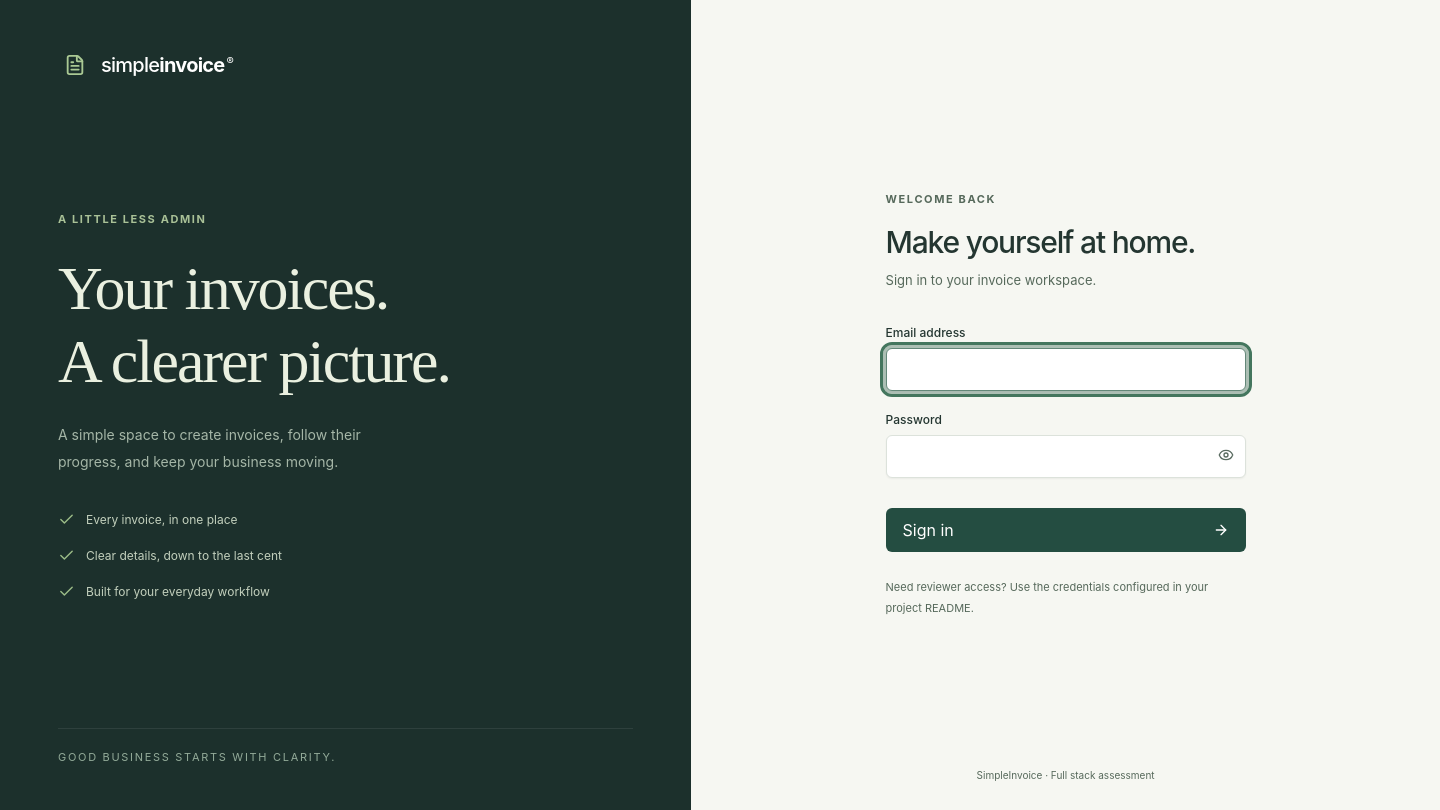
Test: Authentication and protected routes › shows rejected credentials and supports password visibility
The image size is (1440, 810).
Type "reviewer@example.com" into the field labelled "Email address" at [1066, 370], box x1=886 y1=348 x2=1246 y2=391
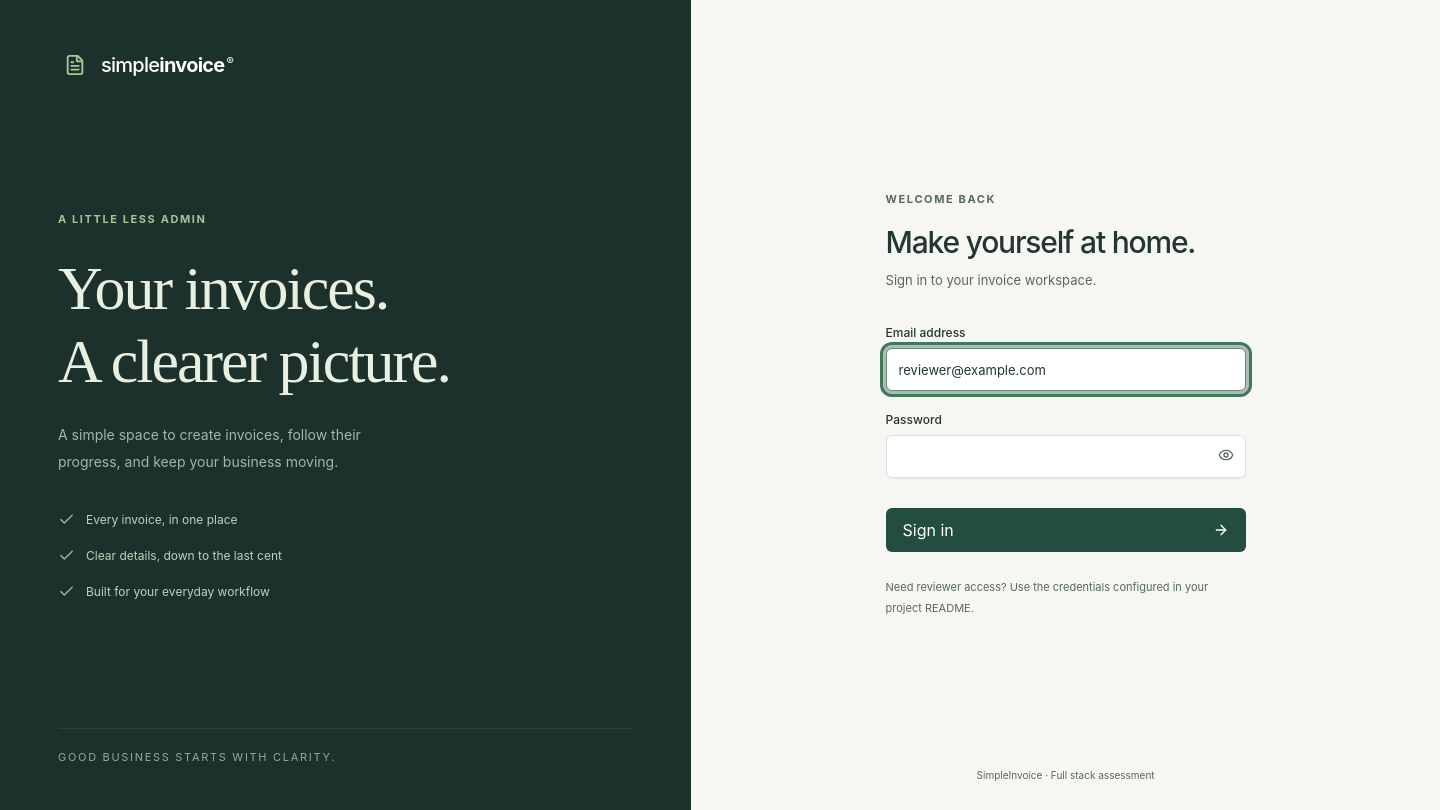
Type "wrong" into the password field labelled "Password" at [1066, 457], box x1=886 y1=435 x2=1246 y2=478
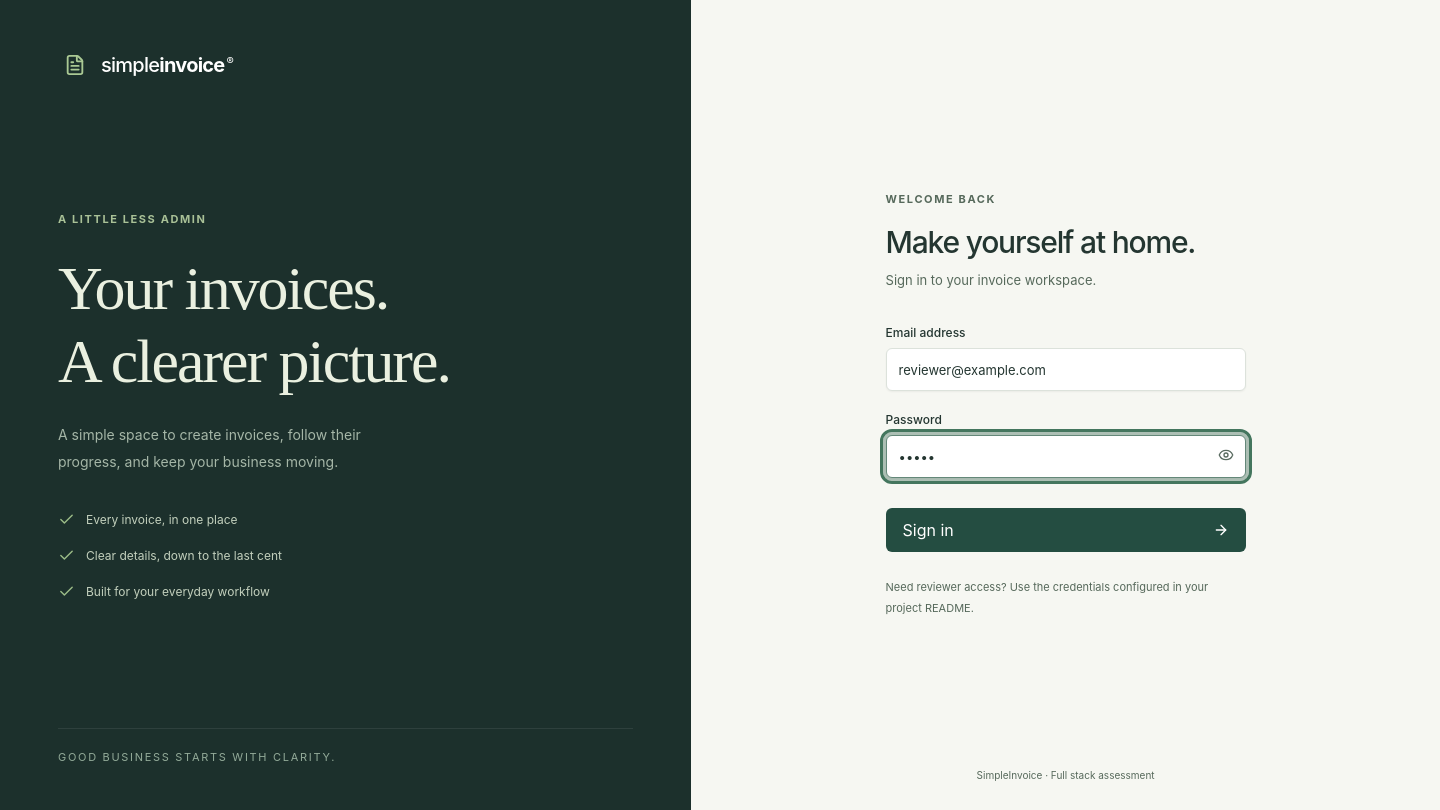
Click the button named "Show password" at [1226, 455], box x1=1206 y1=432 x2=1246 y2=478
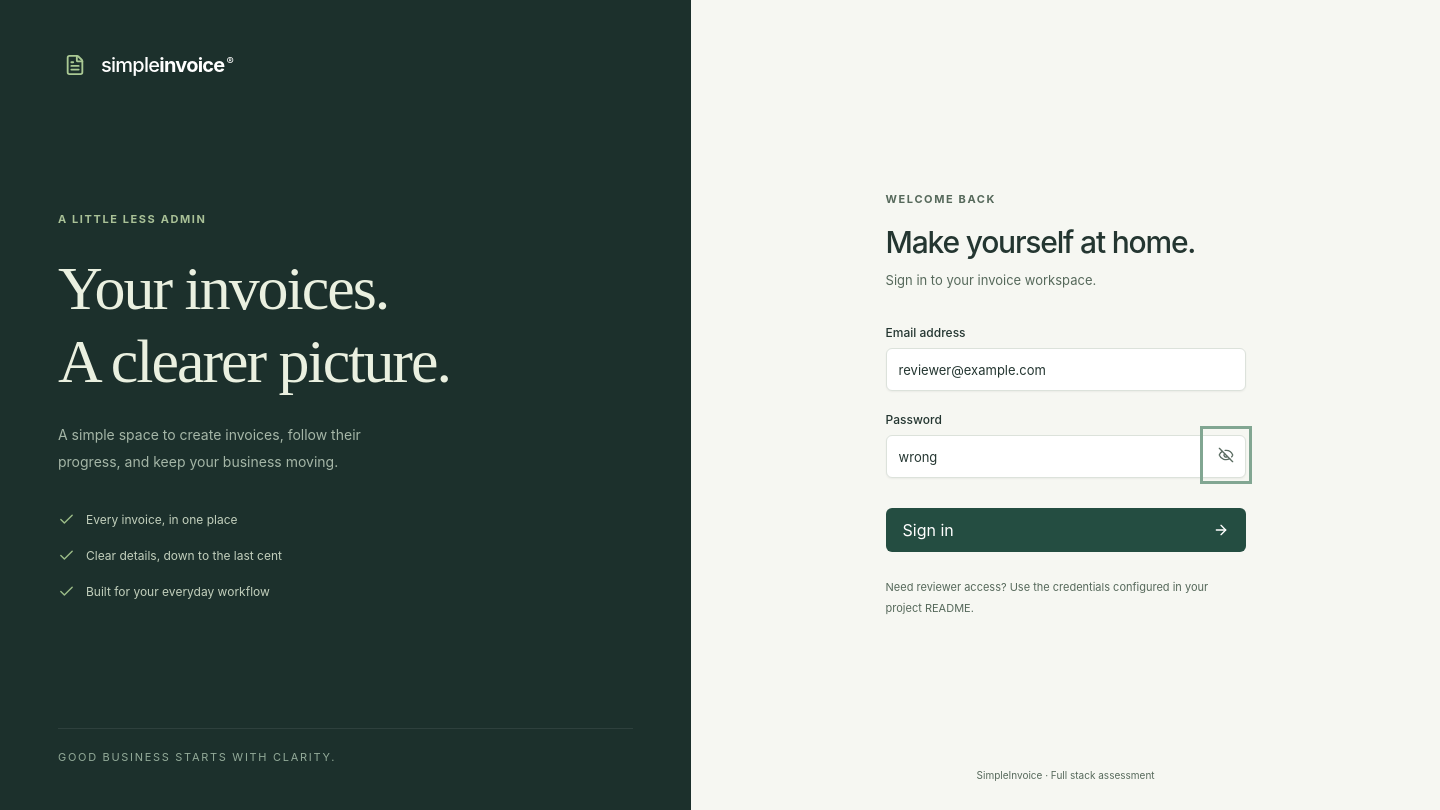
Expected: the field labelled "Password" shows its text, x1=886 y1=435 x2=1246 y2=478
Click the button "Sign in" at [928, 530], box x1=886 y1=508 x2=1246 y2=552
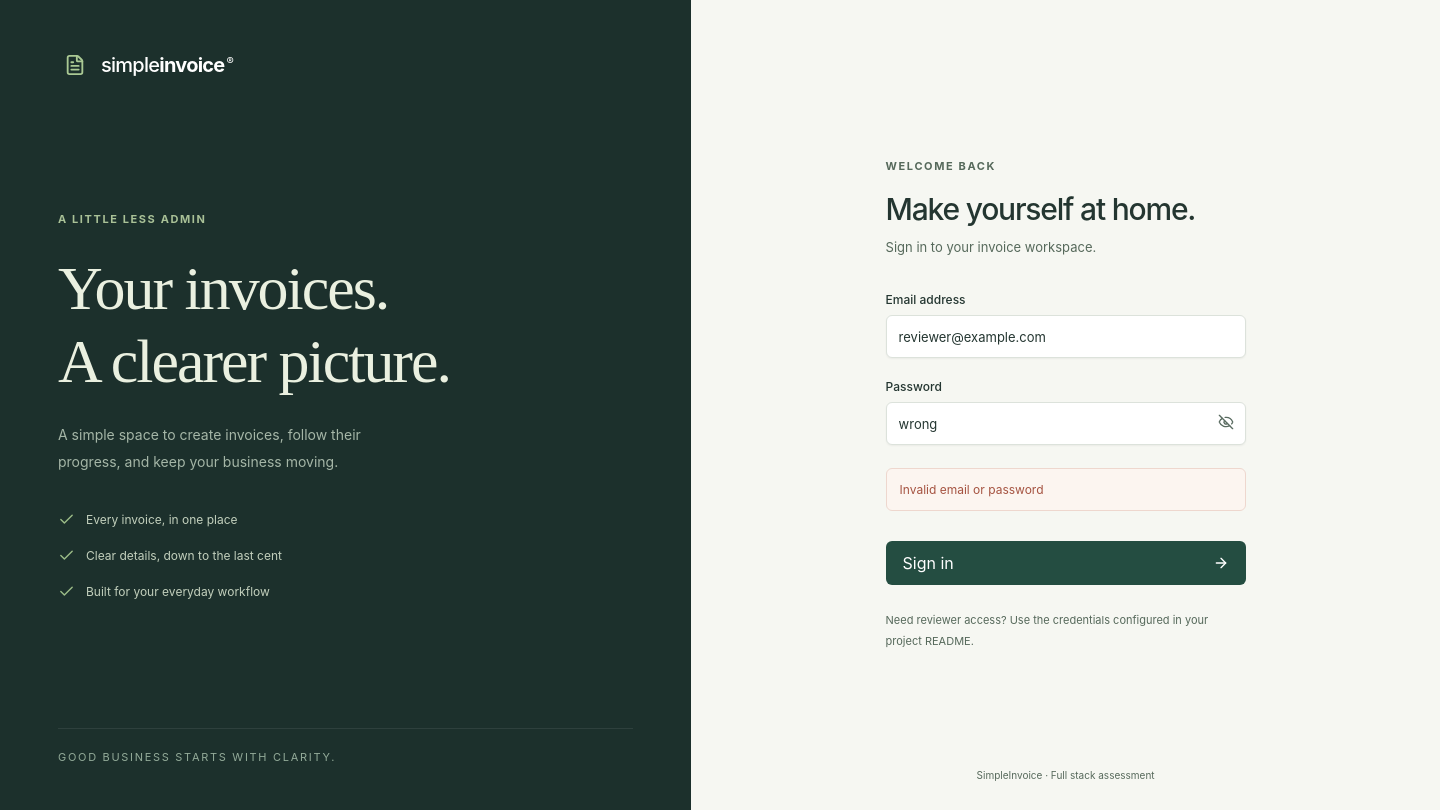
Expected: the message reads "Invalid email or password", x1=900 y1=482 x2=1044 y2=497
